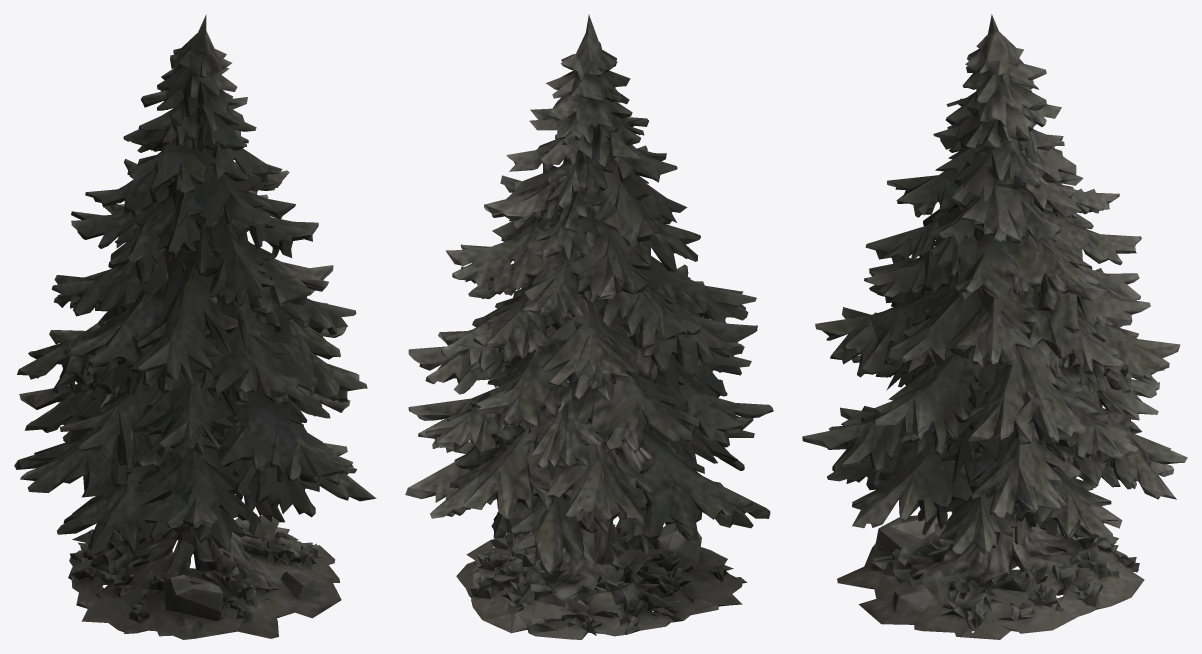
Rendered from war_pine_burnt_01.glb.
3 renders of one model, left to right at view 1: azimuth 30°, elevation 25°; view 2: azimuth 150°, elevation 25°; view 3: azimuth 270°, elevation 25°, orthographic.
Parts seen in each view (by area): view 1: geometry_0; view 2: geometry_0; view 3: geometry_0.
Part boxes in pixels (left/top/right/bottom): geometry_0: left=14, top=14, right=376, bottom=639; geometry_0: left=405, top=14, right=773, bottom=639; geometry_0: left=802, top=14, right=1187, bottom=639.
Size of the model in its own units: 0.6074 by 0.9993 by 0.6118.
1 material, 1 textured.
